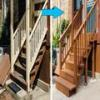stairs: (59, 31, 93, 94)
